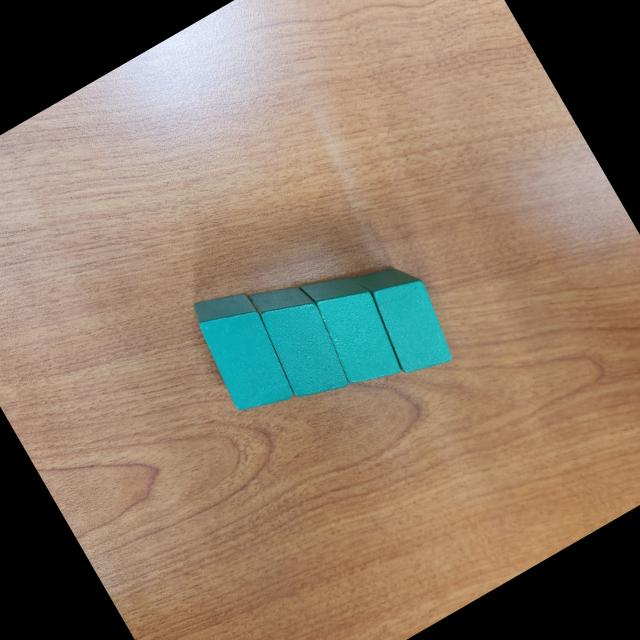green: (182, 278, 306, 424), (294, 255, 413, 398), (242, 269, 360, 411), (348, 248, 465, 386)
